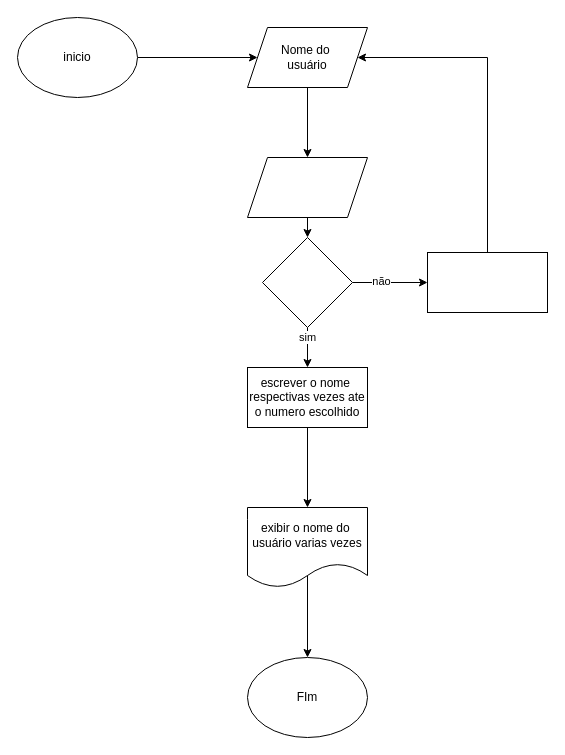
Some shapes in this 565 by 755 pixel diagram are drawn without their labels. Here are the shapes that lost their labels. From the top down, the box of each, then its label:
(246, 156, 368, 218): numero escolhido
(262, 236, 352, 328): nome e numero escolhidos
(426, 252, 548, 312): não foram escritos
